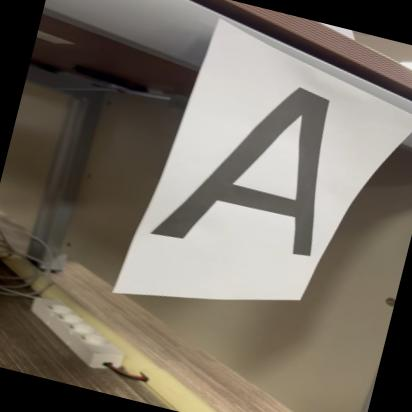seat: (156, 60, 354, 276)
